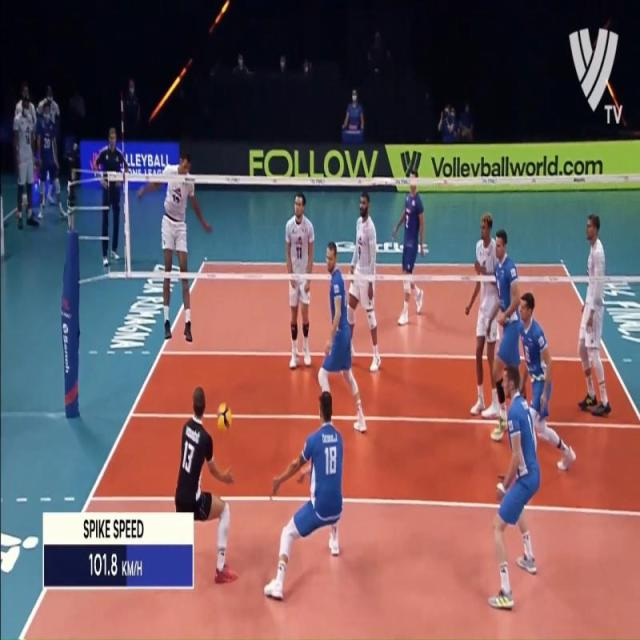volleyball: (215, 404, 231, 430)
